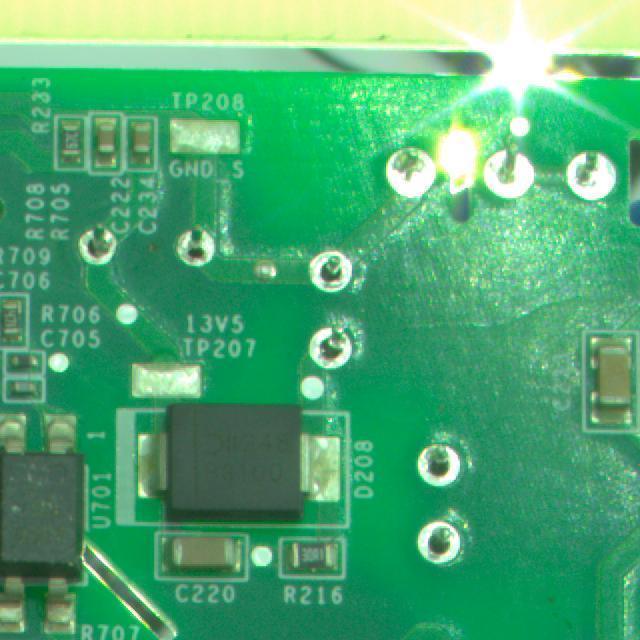Insufficient solder: (299, 324, 362, 379), (65, 218, 121, 276), (419, 435, 468, 496), (309, 241, 360, 297), (417, 516, 469, 565), (170, 225, 226, 267)
